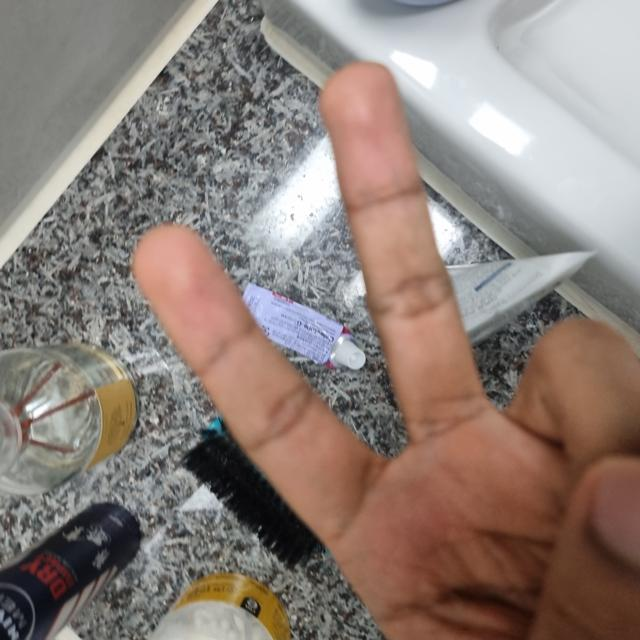Scissors: (0, 133, 581, 640)
